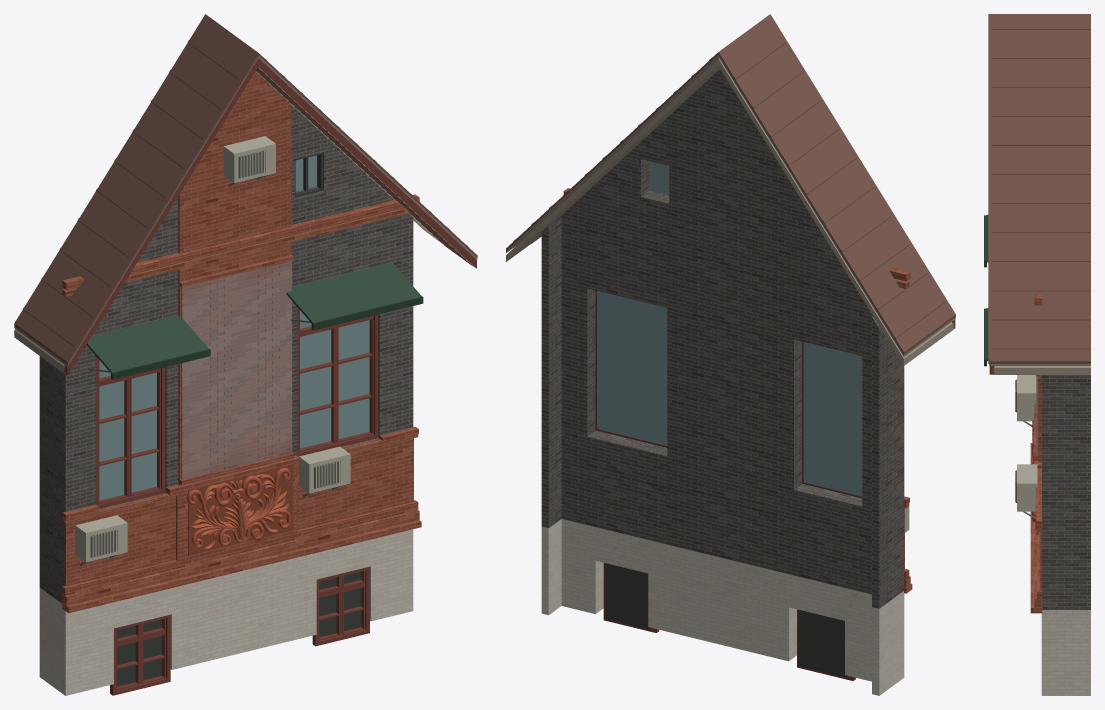
The model's file is hongkou-wujin-225-acanthus-gable-raw.glb.
The picture shows the model from 3 angles, left to right: view 1: azimuth 30°, elevation 25°; view 2: azimuth 150°, elevation 25°; view 3: azimuth 270°, elevation 25°; orthographic projection. The views are drawn at different scales.
Parts seen in each view (by area): view 1: 武进路225弄住宅卷草山墙; view 2: 武进路225弄住宅卷草山墙; view 3: 武进路225弄住宅卷草山墙.
Boxes of the visible parts, bbox=[...] form: 武进路225弄住宅卷草山墙: bbox=[14, 14, 477, 695]; 武进路225弄住宅卷草山墙: bbox=[506, 14, 955, 695]; 武进路225弄住宅卷草山墙: bbox=[984, 14, 1090, 695].
Size of the model in its own units: 7.16 by 10.61 by 1.69.
25 materials, 3 textured.
